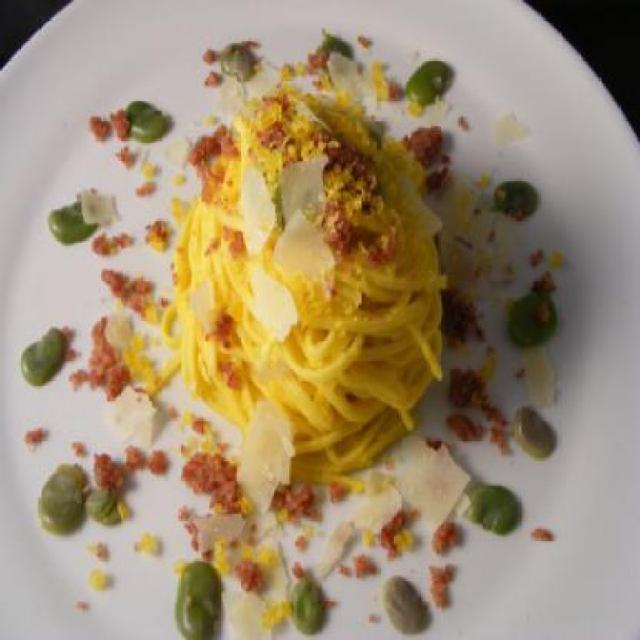Pasta with carbonara sauce: (47, 58, 596, 604)
